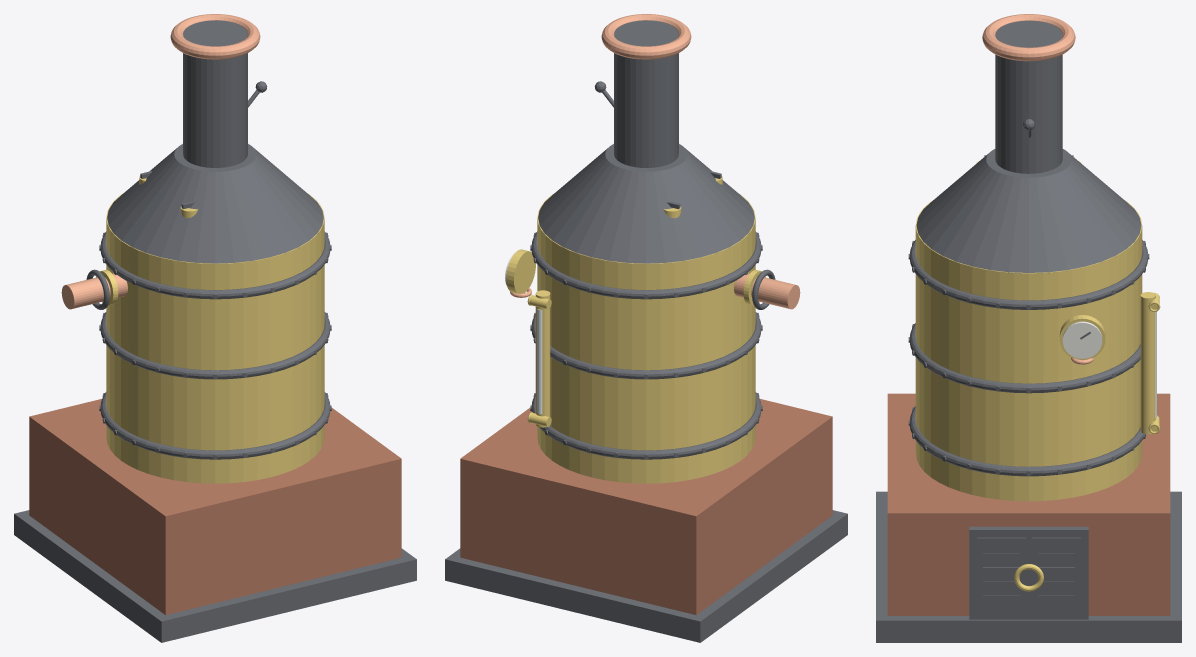
Rendered from steam_boiler.glb.
3 views of the same model, side by side, from view 1: azimuth 30°, elevation 25°; view 2: azimuth 150°, elevation 25°; view 3: azimuth 270°, elevation 25° (orthographic). The views are drawn at different scales.
Visible parts, largest first — view 1: Cube, Cylinder, Cone, Cube.001, Cylinder.073, Torus.001, Torus.003, Torus.002, Torus.004, Cylinder.085; view 2: Cube, Cylinder, Cone, Cube.001, Cylinder.073, Torus.003, Torus.001, Torus.002, Torus.004, Cylinder.075, Cylinder.085, Cylinder.079 (+1 smaller); view 3: Cylinder, Cube, Cone, Cube.001, Cylinder.073, Cube.002, Cube.003, Cube.008, Torus.003, Torus.001, Torus.002, Torus.004 (+4 smaller).
Boxes of the visible parts, box(x1,y1,x2,y2) form: Cube: box(29, 399, 401, 615); Cylinder: box(106, 194, 324, 483); Cone: box(107, 144, 323, 263); Cube.001: box(14, 510, 416, 642); Cylinder.073: box(183, 20, 247, 167); Torus.001: box(100, 392, 330, 459); Torus.003: box(100, 231, 330, 299); Torus.002: box(100, 312, 330, 379); Torus.004: box(170, 14, 260, 59); Cylinder.085: box(61, 273, 127, 309); Cube: box(460, 399, 832, 615); Cylinder: box(537, 194, 755, 483); Cone: box(538, 144, 754, 263); Cube.001: box(445, 510, 847, 642); Cylinder.073: box(614, 20, 678, 167); Torus.003: box(531, 231, 761, 299); Torus.001: box(531, 392, 761, 459); Torus.002: box(531, 312, 761, 379); Torus.004: box(601, 14, 691, 59); Cylinder.075: box(535, 290, 550, 427); Cylinder.085: box(734, 273, 800, 309); Cylinder.079: box(506, 249, 535, 294); Cylinder: box(915, 200, 1142, 501); Cube: box(887, 393, 1170, 615); Cone: box(916, 149, 1141, 273); Cube.001: box(876, 491, 1181, 642); Cylinder.073: box(995, 20, 1062, 173); Cube.002: box(969, 526, 1088, 619); Cube.003: box(977, 537, 1025, 613); Cube.008: box(1032, 537, 1080, 613); Torus.003: box(909, 240, 1148, 309); Torus.001: box(909, 406, 1143, 476); Torus.002: box(909, 323, 1140, 393); Torus.004: box(982, 14, 1075, 61).
Size of the model in its own units: 2.19 by 3.95 by 2.
